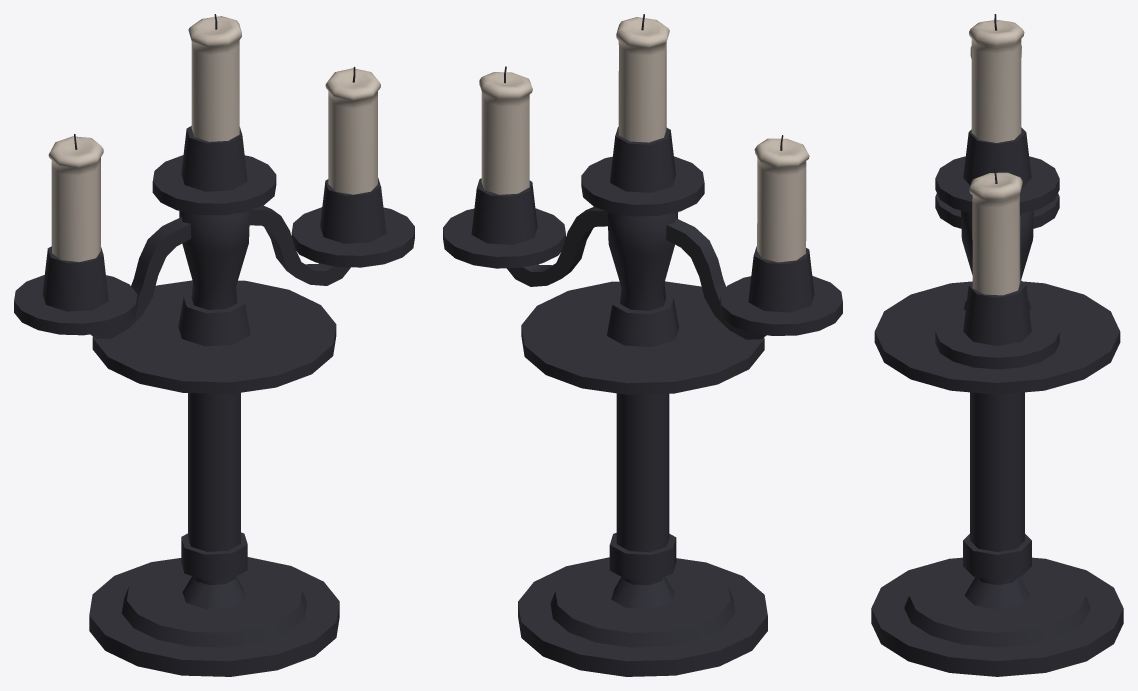
Rendered from CandleHolder_03.fbx.
The picture shows the model from 3 angles, left to right: view 1: azimuth 30°, elevation 25°; view 2: azimuth 150°, elevation 25°; view 3: azimuth 270°, elevation 25°; orthographic projection.
Parts seen in each view (by area): view 1: CandleHolder_03; view 2: CandleHolder_03; view 3: CandleHolder_03.
Part boxes in pixels (x1=…): CandleHolder_03: x1=14, y1=14, x2=414, y2=676; CandleHolder_03: x1=443, y1=14, x2=842, y2=676; CandleHolder_03: x1=871, y1=14, x2=1123, y2=676.
Size of the model in its own units: 0.3528 by 0.5343 by 0.2002.
